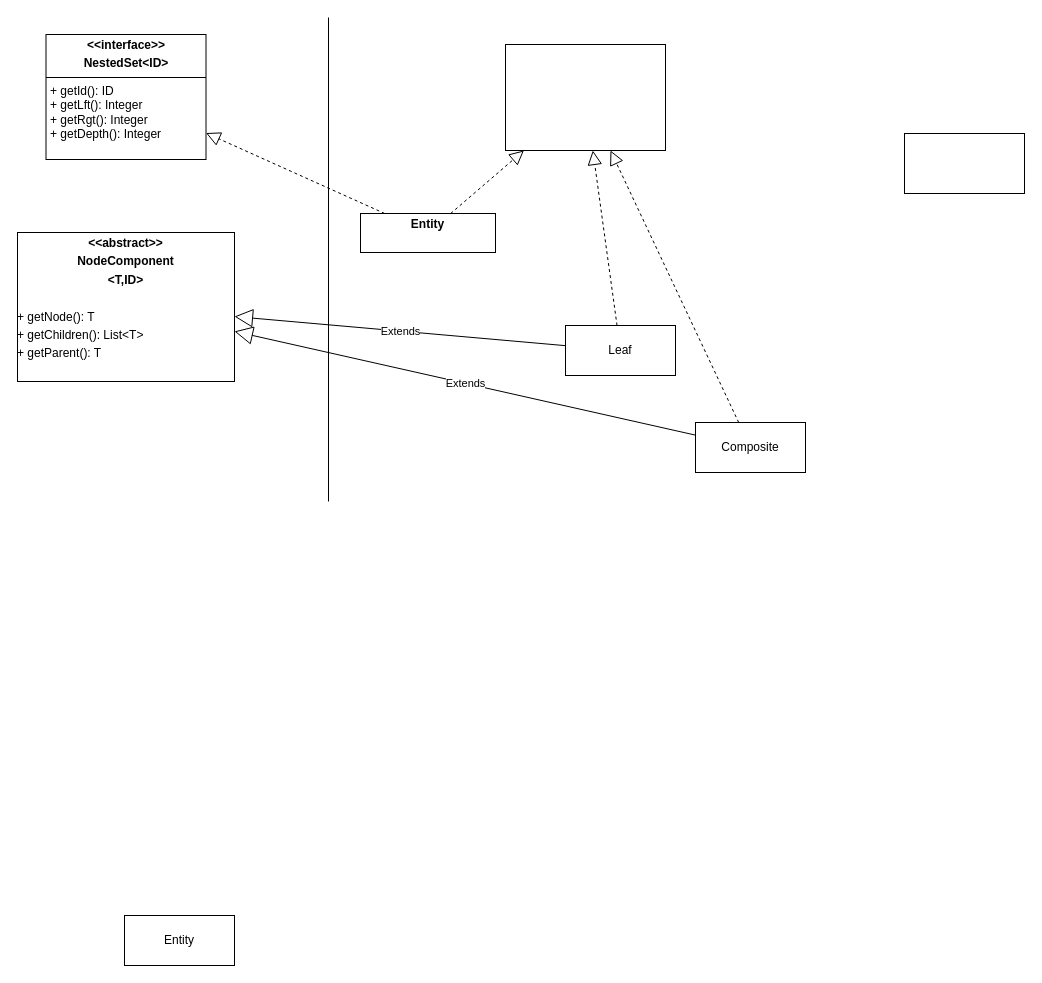
This 1042x983 diagram has some shape labels left out. Here are the shapes that lost their labels. From the top down, the centre of each, then its label:
At point (585, 97): "<<interface>> ICategory + id + Name".
At point (964, 163): "Factory".
